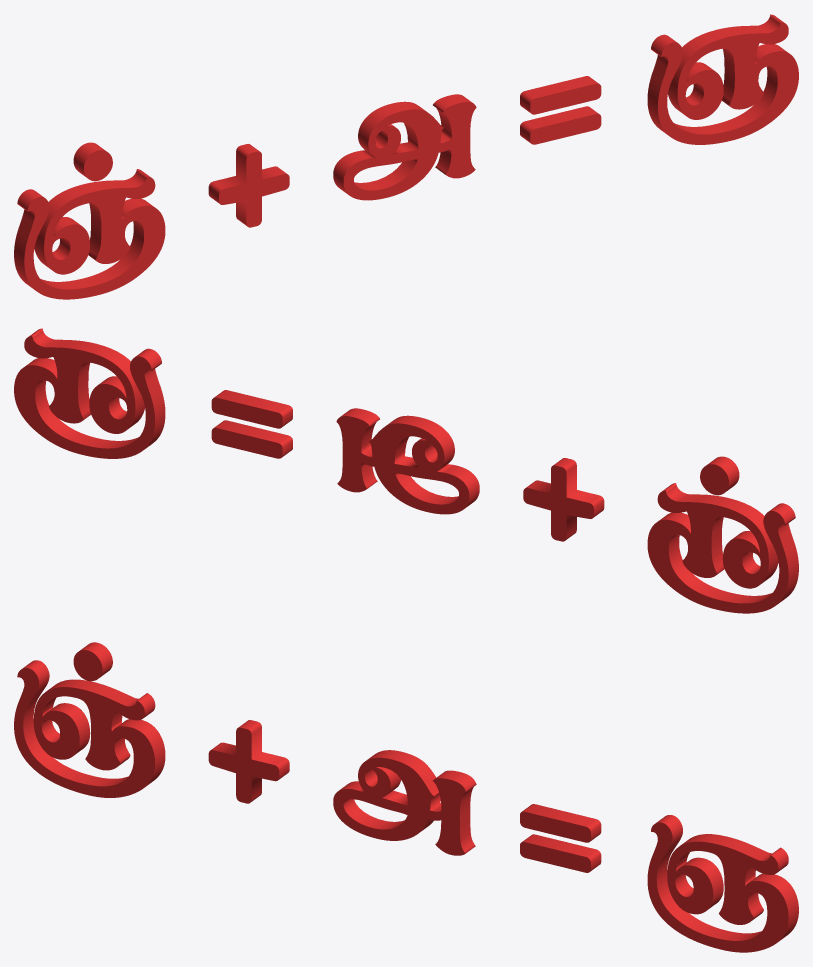
3 views of the same model, one above another, from view 1: azimuth 30°, elevation 25°; view 2: azimuth 150°, elevation 25°; view 3: azimuth 330°, elevation 25° (orthographic).
Visible parts, largest first — view 1: nya; view 2: nya; view 3: nya.
Part boxes in pixels (x1=…): nya: x1=14, y1=14, x2=798, y2=299; nya: x1=14, y1=328, x2=798, y2=613; nya: x1=14, y1=642, x2=798, y2=952.
Bounding box in the file's own units: 0.1861 × 0.0332 × 0.00431.
